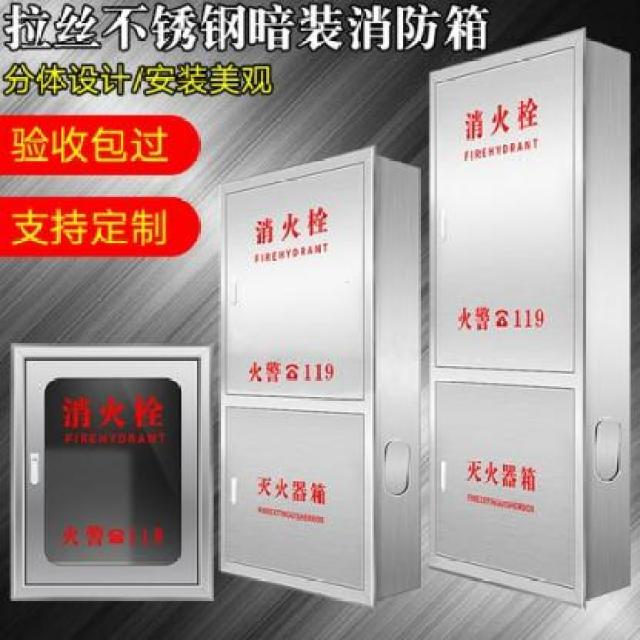firehydrant: (424, 25, 634, 613), (215, 138, 424, 610), (5, 340, 218, 607)
